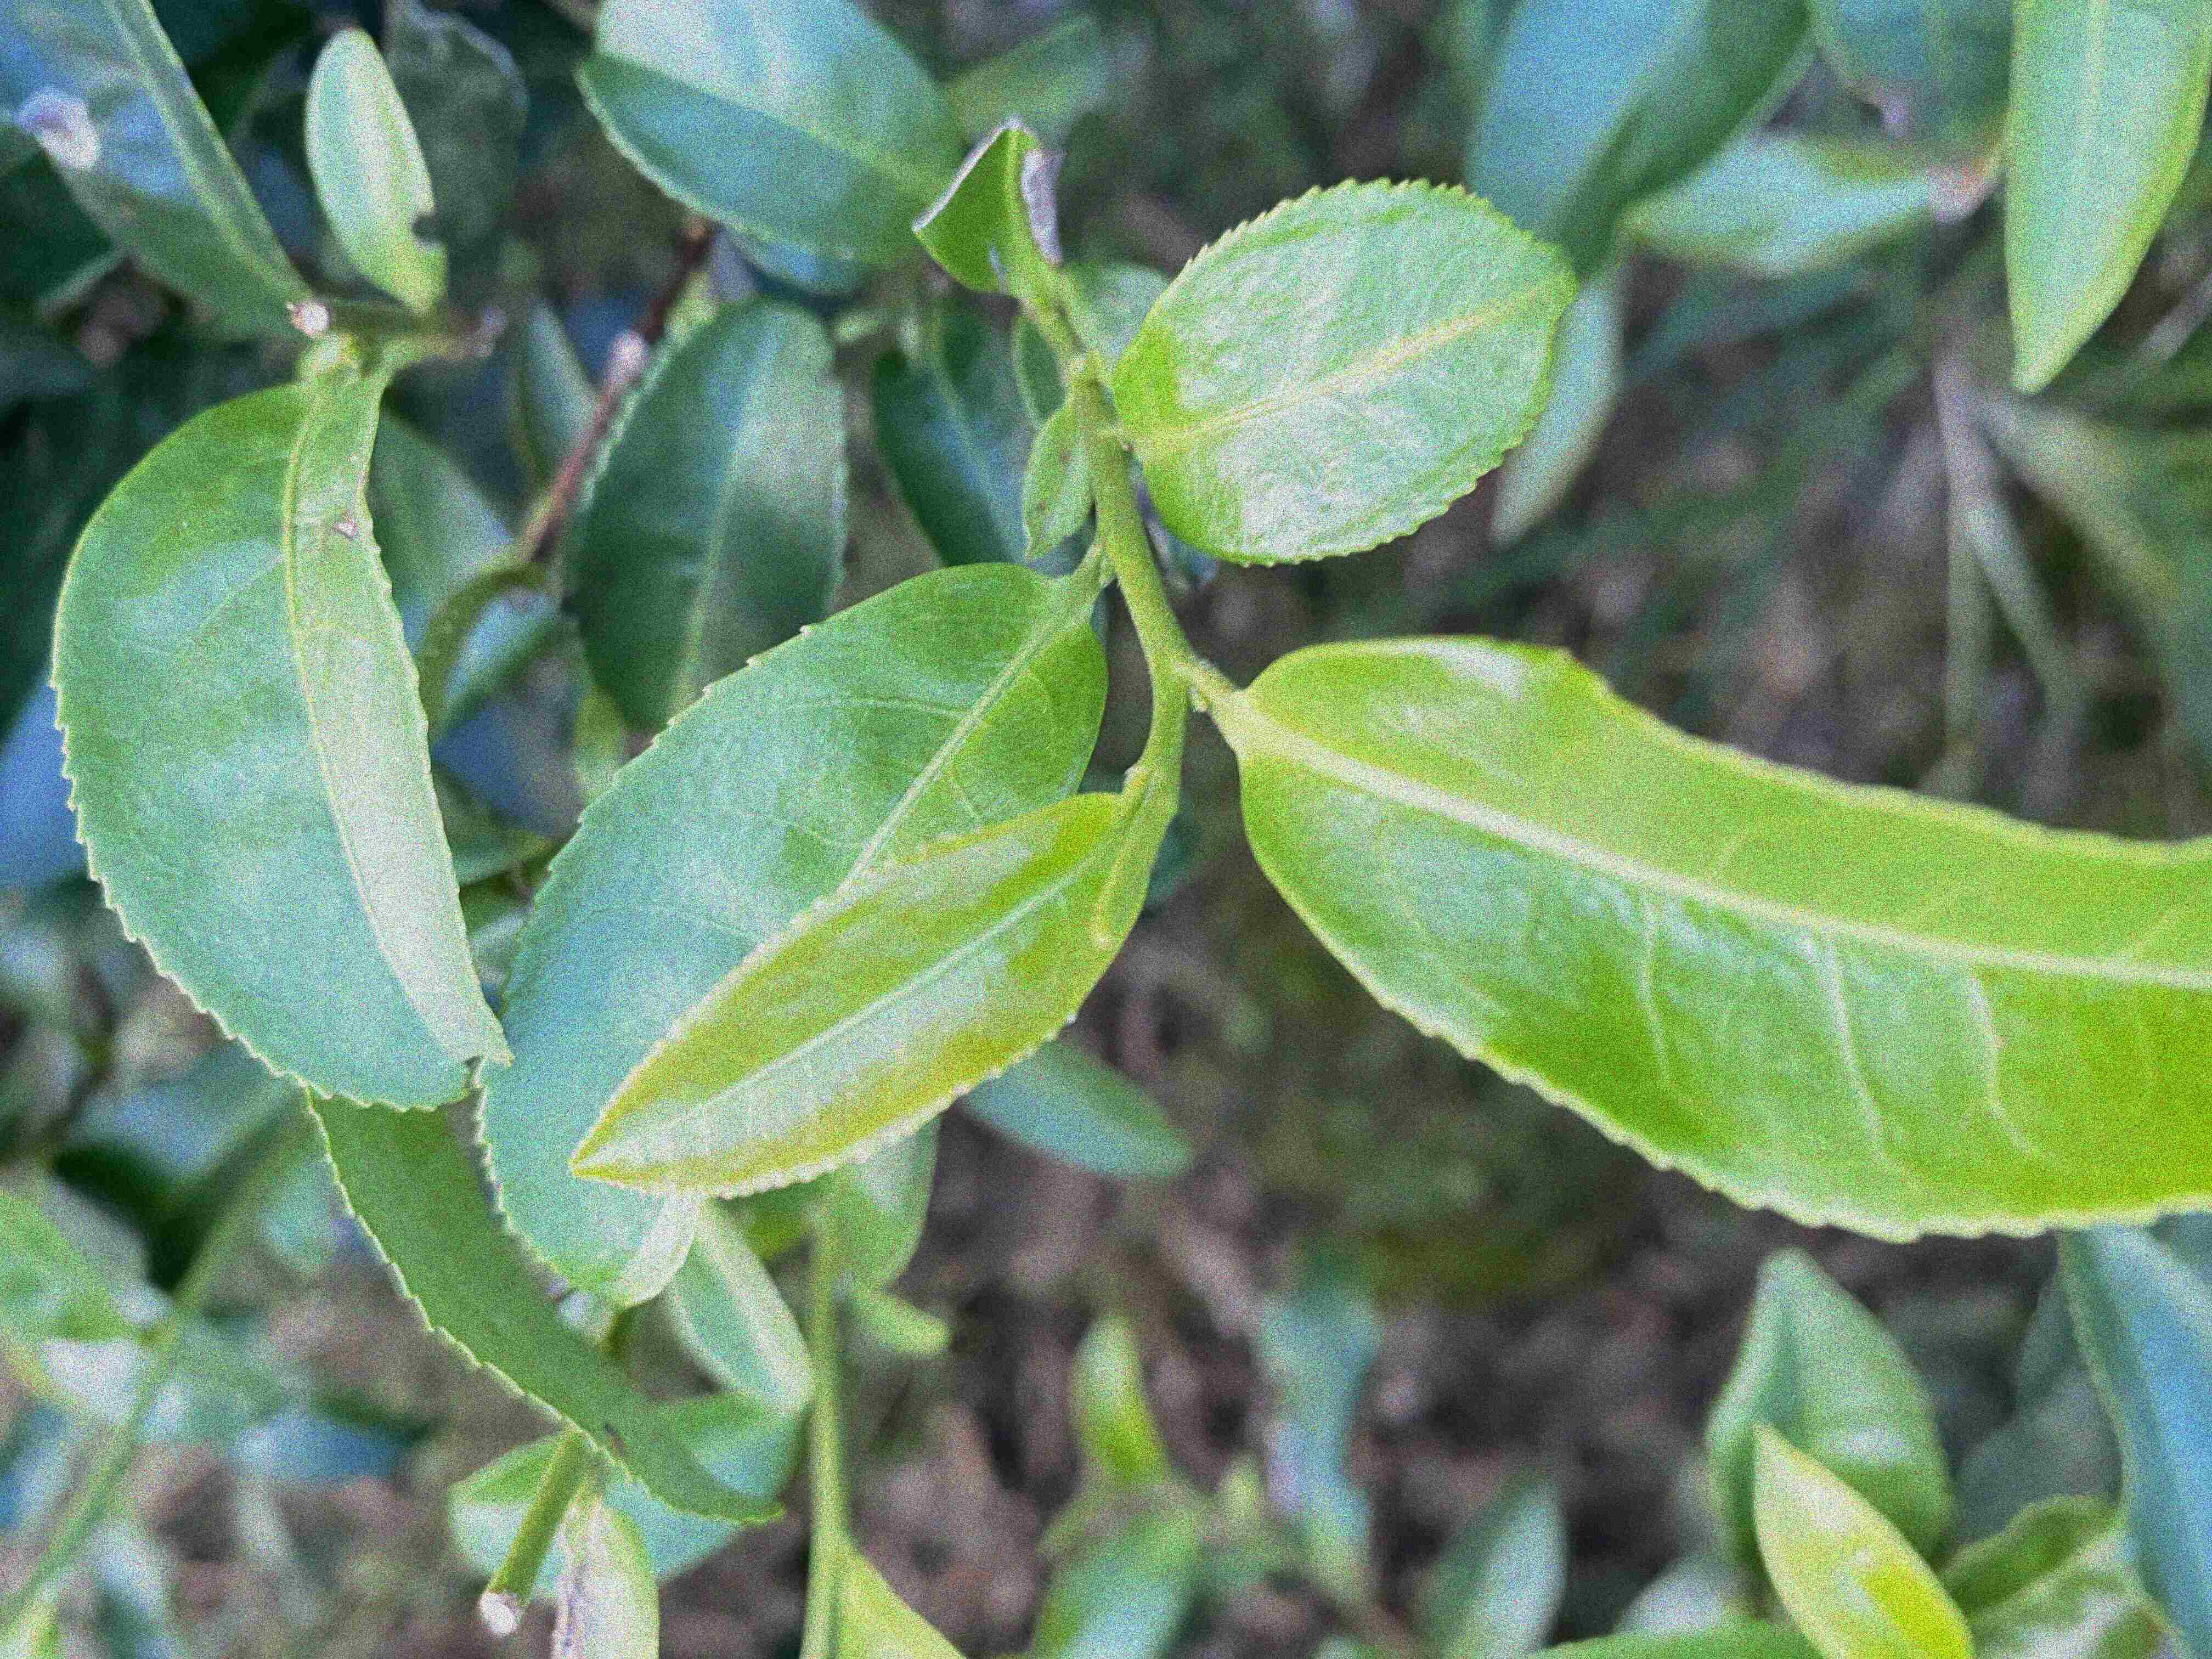chihuo_high: (909, 115, 1082, 310)
chihuo_low: (289, 24, 449, 314)
healthy: (1237, 633, 2212, 1244), (1113, 174, 1580, 573)
tanju_high: (9, 2, 320, 331)
tanju_low: (47, 369, 512, 1115), (570, 788, 1155, 1201)
